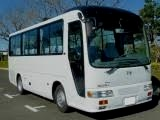bus: (8, 5, 154, 116)
